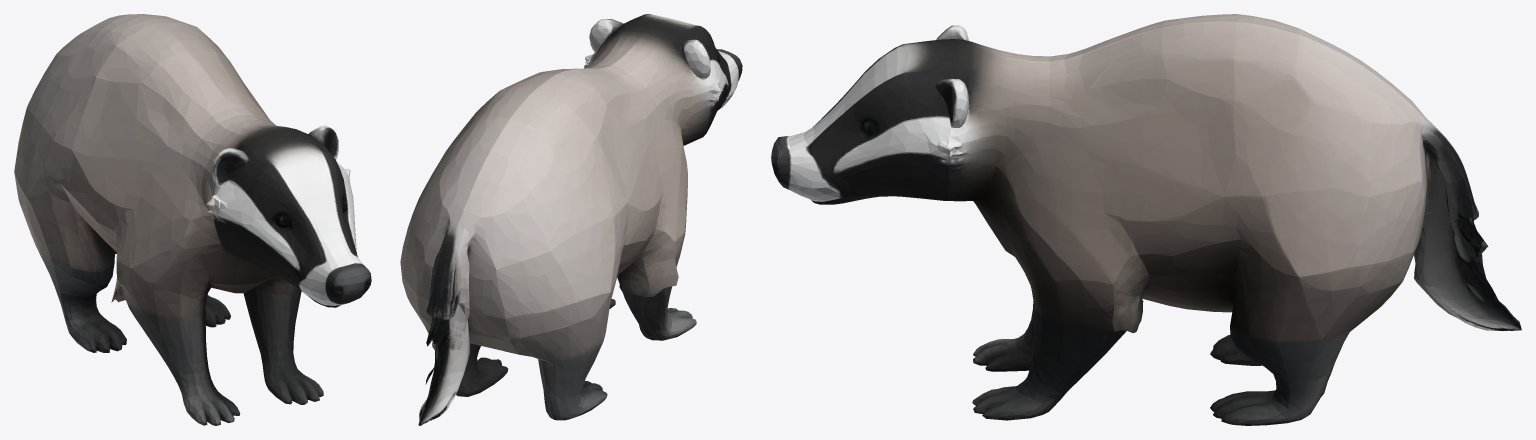
The model's file is european_badger.glb.
3 renders of one model, left to right at view 1: azimuth 30°, elevation 25°; view 2: azimuth 150°, elevation 25°; view 3: azimuth 270°, elevation 25°, orthographic. The views are drawn at different scales.
Visible parts, largest first — view 1: geometry_0; view 2: geometry_0; view 3: geometry_0.
Boxes of the visible parts, left/top/right/bottom form: geometry_0: left=14, top=14, right=371, bottom=425; geometry_0: left=400, top=14, right=742, bottom=425; geometry_0: left=771, top=14, right=1521, bottom=425.
Bounding box in the file's own units: 0.3747 × 0.5412 × 1.
Materials: 1 (1 with a texture image).
